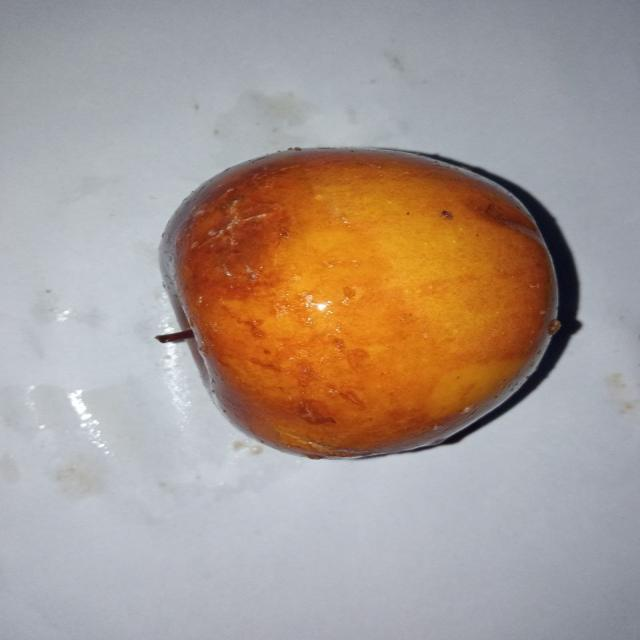rotten_apple: (153, 148, 560, 456)
